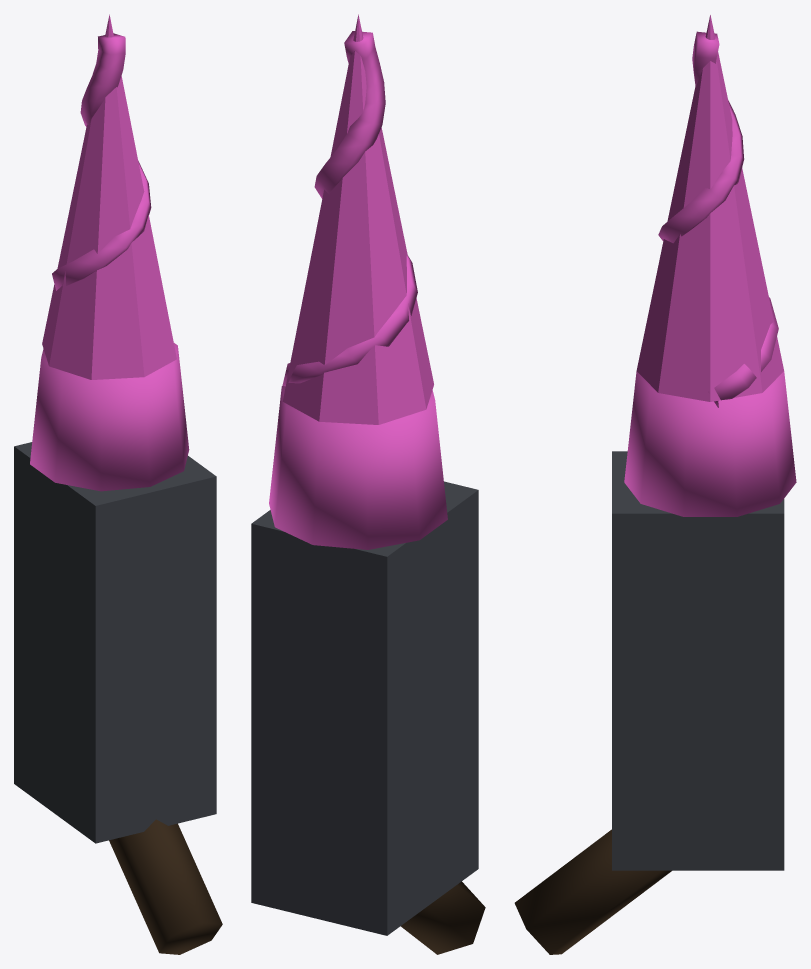
Rendered from nebula_drill.glb.
The picture shows the model from 3 angles, left to right: view 1: azimuth 30°, elevation 25°; view 2: azimuth 150°, elevation 25°; view 3: azimuth 270°, elevation 25°; orthographic projection. The views are drawn at different scales.
Parts seen in each view (by area): view 1: nebula_drill_v0; view 2: nebula_drill_v0; view 3: nebula_drill_v0.
Part boxes in pixels (x1,y1,x2,y2): nebula_drill_v0: (14, 14, 222, 954); nebula_drill_v0: (251, 14, 485, 954); nebula_drill_v0: (514, 15, 796, 954).
Bounding box in the file's own units: 0.1331 × 0.843 × 0.2292.
